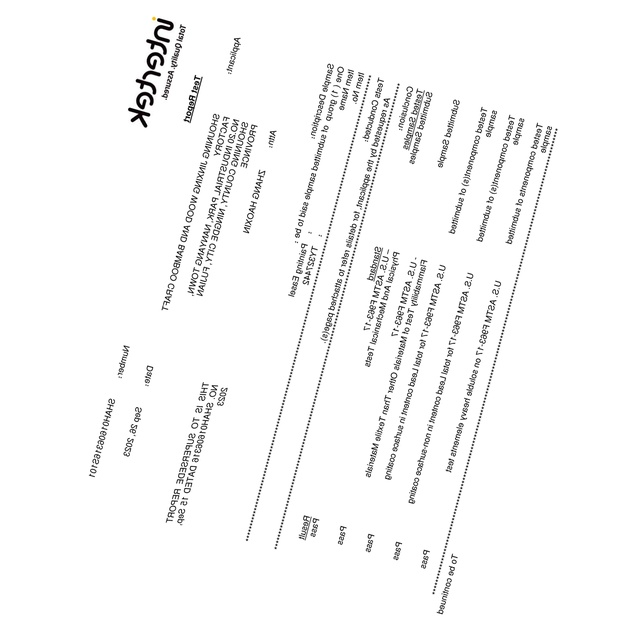intertek: (128, 13, 175, 128)
